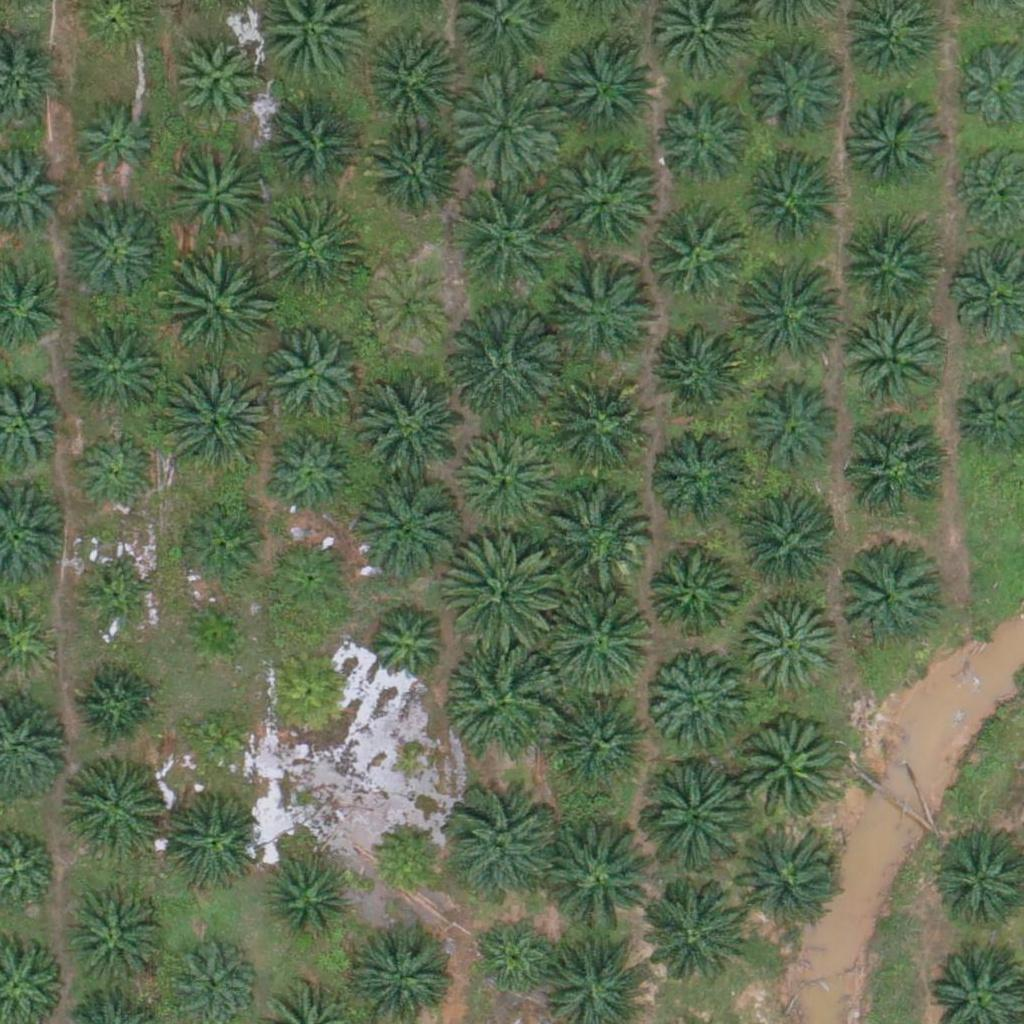Kelapa_Sawit: (447, 185, 560, 299), (635, 761, 748, 874), (632, 878, 745, 991), (450, 642, 563, 755), (447, 790, 560, 903), (540, 478, 653, 591), (447, 311, 560, 424), (157, 364, 270, 477), (158, 252, 271, 365), (539, 820, 651, 934), (543, 579, 655, 693), (445, 531, 557, 645), (448, 70, 560, 183), (731, 713, 843, 826), (728, 821, 840, 934), (735, 256, 847, 369), (256, 194, 368, 307), (354, 377, 466, 490), (349, 470, 461, 583), (253, 93, 353, 194), (356, 24, 456, 125), (555, 32, 655, 133), (748, 40, 848, 141), (846, 98, 946, 199), (67, 894, 167, 995), (158, 792, 258, 893), (835, 550, 935, 651), (742, 599, 842, 700), (640, 544, 740, 645), (647, 652, 747, 753), (838, 308, 938, 409), (838, 220, 938, 321), (742, 152, 842, 253), (456, 432, 556, 533), (261, 326, 361, 427), (165, 145, 265, 246), (63, 205, 163, 306), (65, 318, 165, 419), (64, 756, 164, 856), (740, 501, 840, 601), (554, 690, 654, 790), (844, 418, 944, 518), (740, 377, 840, 477), (652, 422, 752, 522), (644, 202, 744, 302), (649, 318, 749, 418), (555, 151, 655, 251), (555, 268, 655, 368), (547, 381, 647, 481), (357, 121, 457, 221), (265, 646, 353, 735), (169, 37, 257, 125), (471, 916, 559, 1004), (265, 533, 353, 621), (366, 264, 454, 352), (70, 431, 158, 519), (267, 429, 354, 518), (69, 101, 156, 189), (658, 97, 745, 185), (72, 660, 159, 748), (264, 857, 351, 945), (361, 601, 448, 689), (176, 503, 263, 591), (368, 818, 443, 894), (176, 595, 251, 671), (180, 703, 255, 779), (82, 566, 157, 641)
